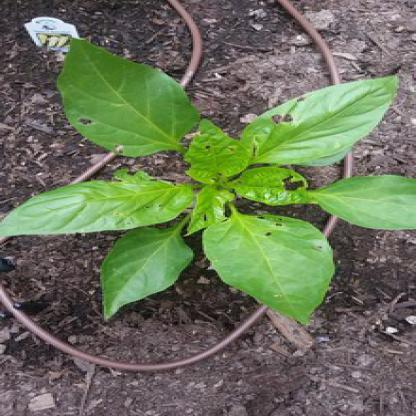bell pepper leaf spot: (53, 33, 199, 155), (204, 207, 337, 329), (240, 73, 401, 168), (2, 176, 195, 250), (180, 118, 246, 186), (223, 168, 333, 205)
